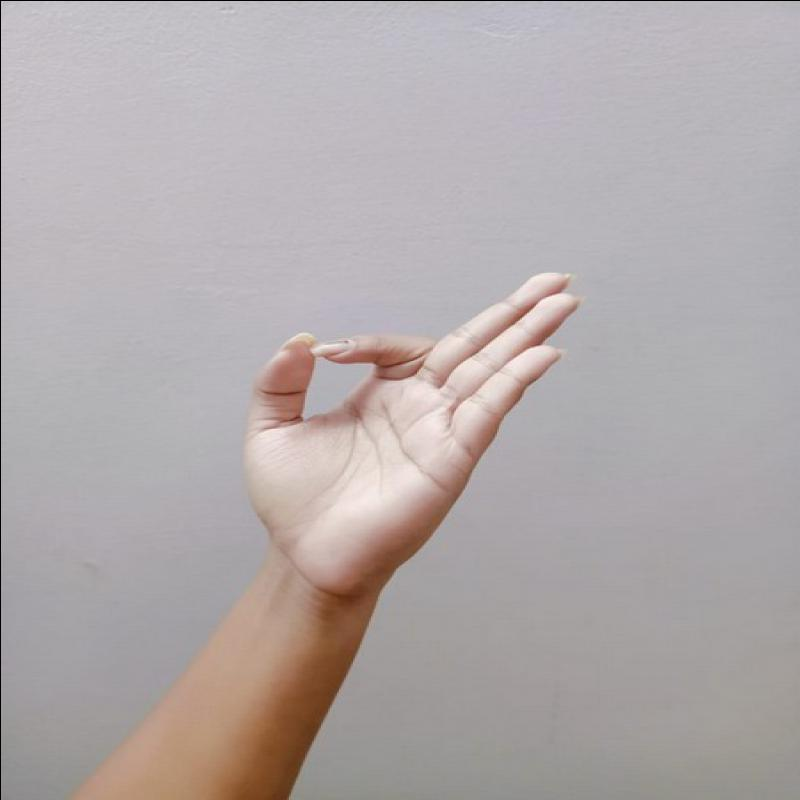Mudraakhyam: (226, 218, 585, 610)
